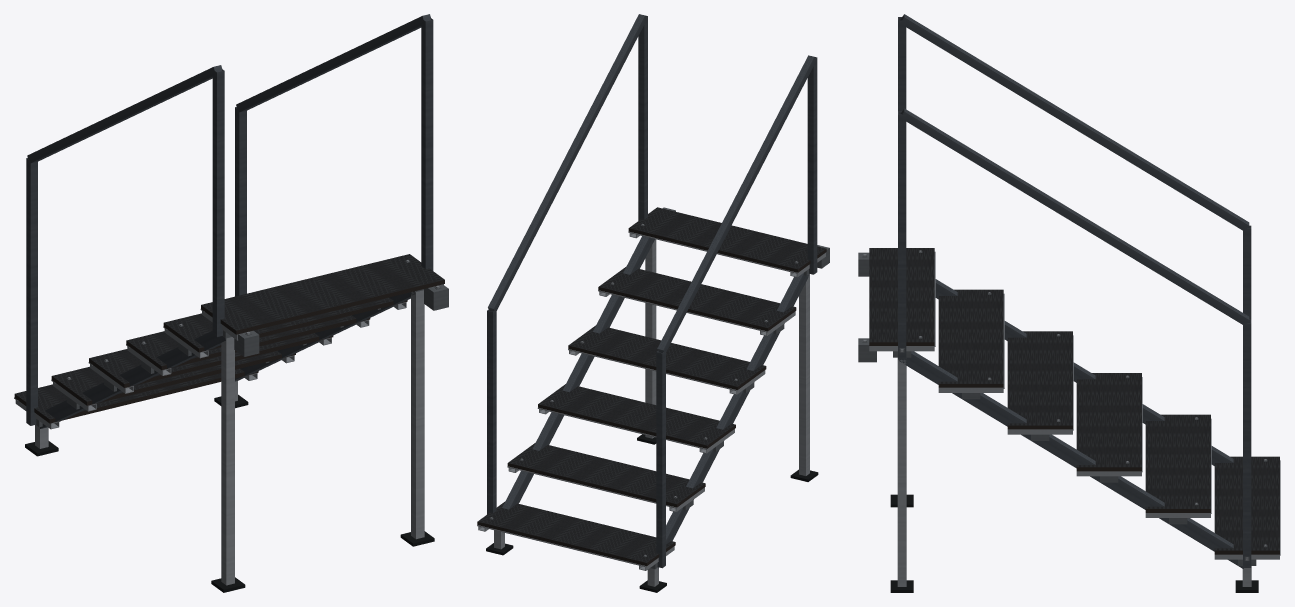
The model's file is stage_stairs_h120.obj.
3 views of the same model, side by side, from view 1: azimuth 30°, elevation 25°; view 2: azimuth 150°, elevation 25°; view 3: azimuth 270°, elevation 25° (orthographic). The views are drawn at different scales.
Visible parts, largest first — view 1: part_424, part_715, part_595, part_897, part_819, part_507, part_799, part_763, part_877, part_88, part_340, part_172 (+16 smaller); view 2: part_4, part_424, part_256, part_88, part_340, part_172, part_820, part_898, part_628, part_508, part_897, part_819 (+20 smaller); view 3: part_256, part_172, part_88, part_340, part_424, part_4, part_626, part_818, part_896, part_704, part_866, part_830 (+6 smaller).
Part boxes in pixels (left/top/right/bottom): part_424: left=201, top=254, right=444, bottom=330; part_715: left=416, top=290, right=423, bottom=538; part_595: left=227, top=337, right=234, bottom=585; part_897: left=236, top=16, right=424, bottom=112; part_819: left=27, top=67, right=215, bottom=162; part_507: left=40, top=331, right=225, bottom=428; part_799: left=217, top=71, right=223, bottom=336; part_763: left=31, top=162, right=37, bottom=425; part_877: left=426, top=20, right=432, bottom=270; part_88: left=52, top=351, right=281, bottom=401; part_340: left=164, top=297, right=393, bottom=348; part_172: left=89, top=333, right=318, bottom=383; part_4: left=478, top=501, right=674, bottom=562; part_424: left=629, top=207, right=826, bottom=269; part_256: left=568, top=325, right=765, bottom=386; part_88: left=508, top=443, right=705, bottom=504; part_340: left=599, top=267, right=795, bottom=327; part_172: left=538, top=384, right=735, bottom=445; part_820: left=657, top=55, right=814, bottom=349; part_898: left=488, top=14, right=644, bottom=308; part_628: left=502, top=236, right=648, bottom=509; part_508: left=656, top=273, right=803, bottom=545; part_897: left=494, top=16, right=646, bottom=310; part_819: left=663, top=57, right=815, bottom=353; part_256: left=1007, top=331, right=1072, bottom=425; part_172: left=1076, top=373, right=1141, bottom=467; part_88: left=1145, top=414, right=1210, bottom=508; part_340: left=938, top=289, right=1003, bottom=383; part_424: left=869, top=248, right=934, bottom=342; part_4: left=1214, top=456, right=1279, bottom=550; part_626: left=899, top=354, right=1243, bottom=568; part_818: left=902, top=17, right=1248, bottom=231; part_896: left=902, top=112, right=1249, bottom=324; part_704: left=897, top=358, right=906, bottom=586; part_866: left=898, top=114, right=906, bottom=359; part_830: left=1243, top=323, right=1251, bottom=567.
Size of the model in its own units: 1.01 by 2.31 by 1.84.
Materials: 3 (3 with a texture image).
